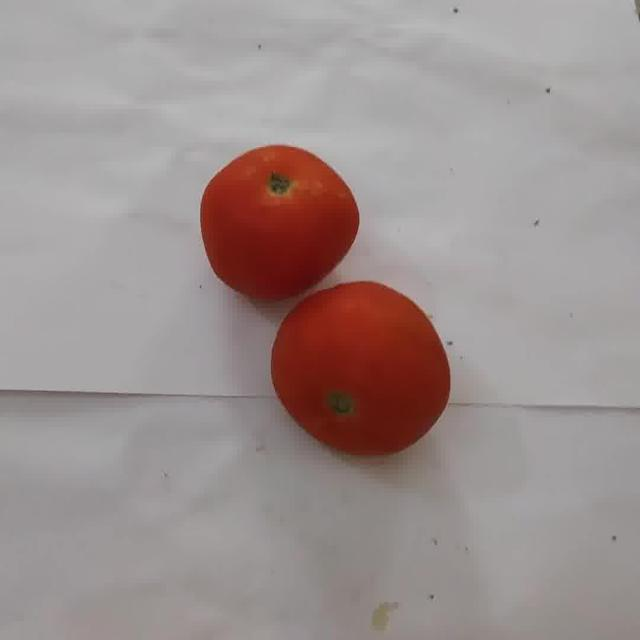Tomato: (271, 283, 450, 455), (200, 145, 359, 302)
